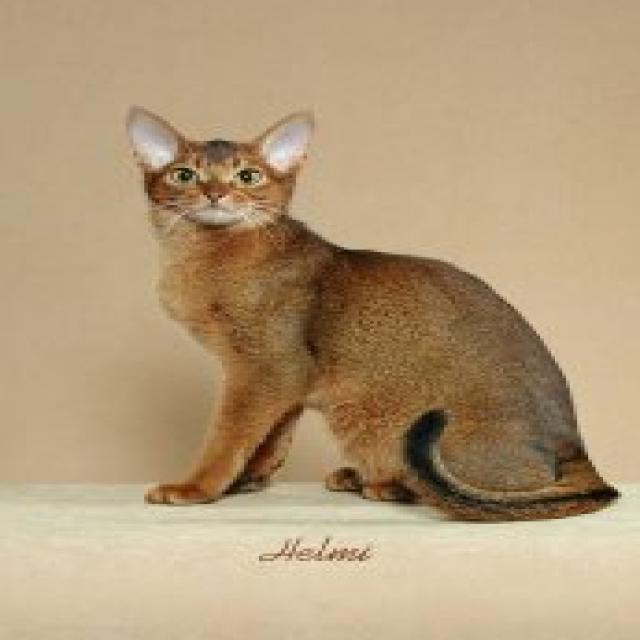Abyssinian: (115, 99, 627, 525)
